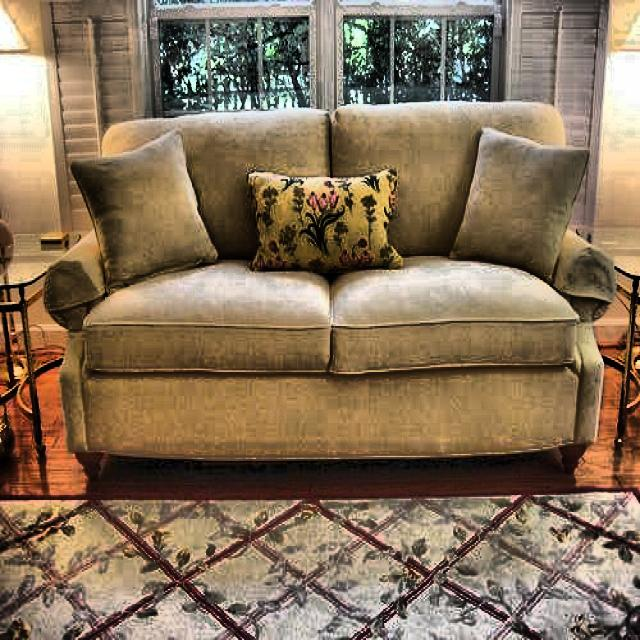sofa: (47, 102, 613, 464)
